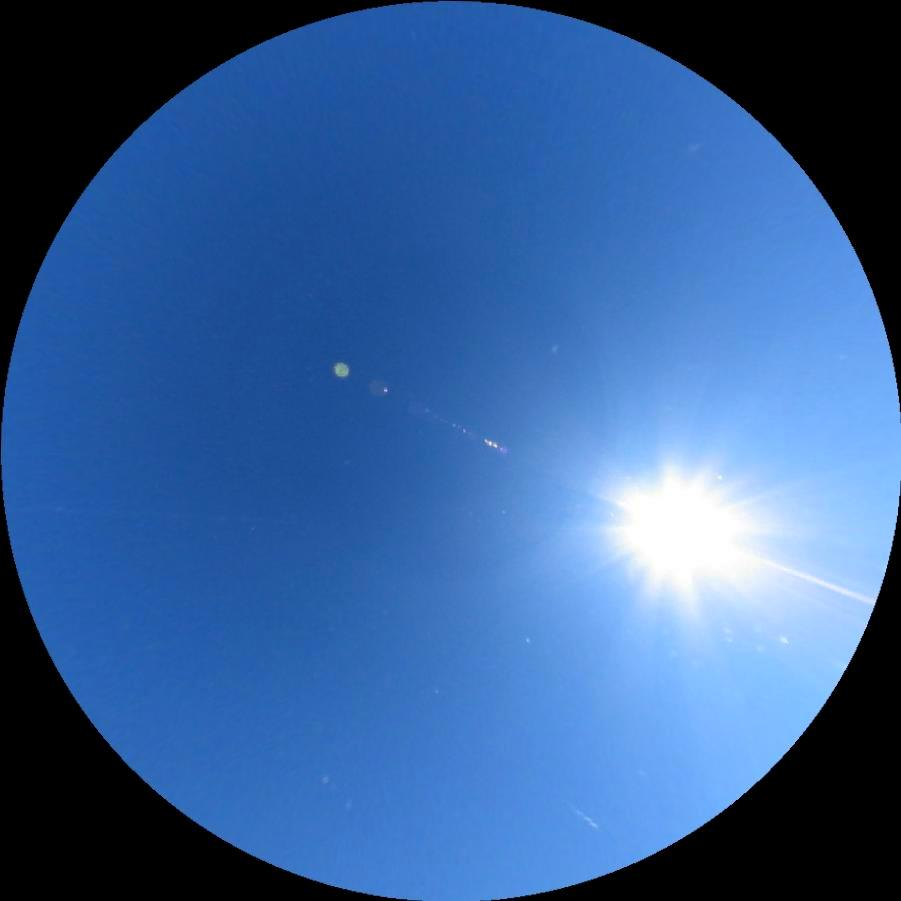contrail young: (568, 801, 600, 832)
parasite: (737, 547, 877, 603)
sun: (608, 457, 754, 603)
